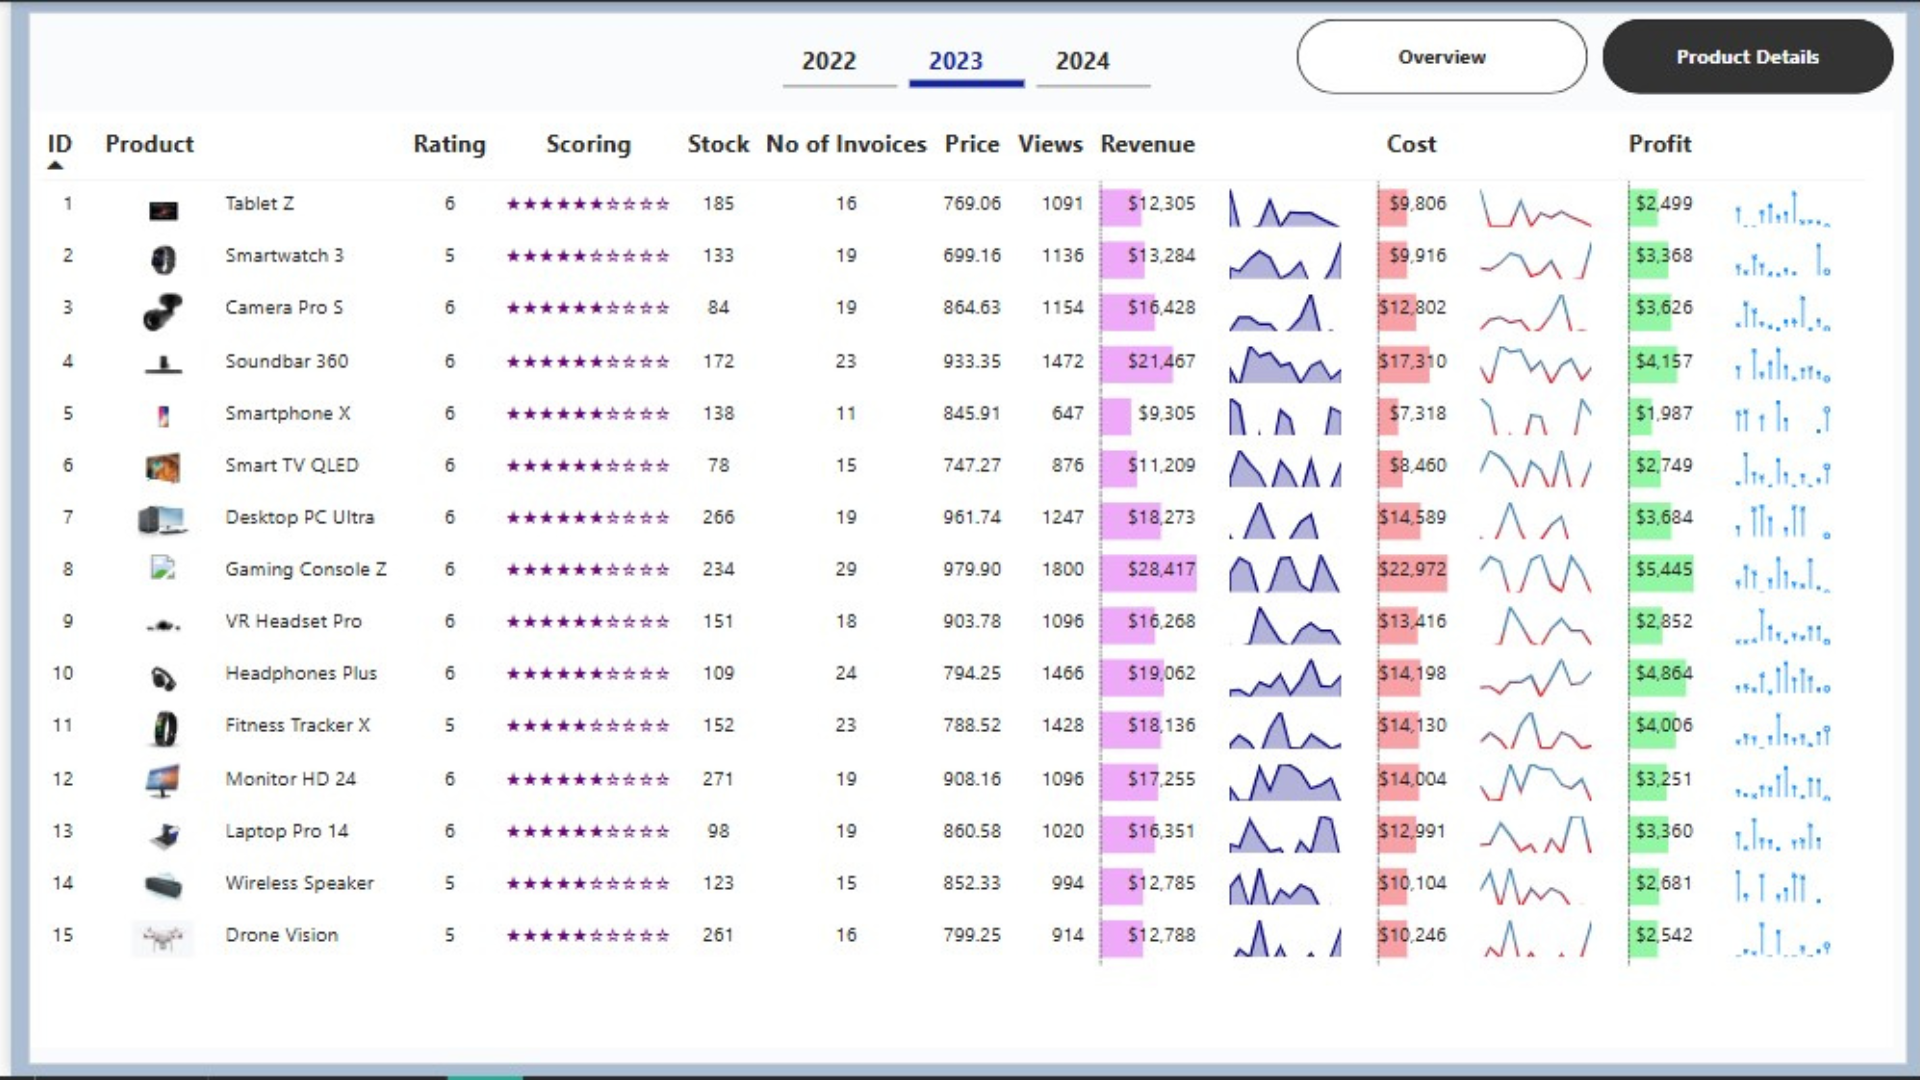

Layout of this report page (visuals, bound fields, positions):
{"tool":"powerbi","page":{"name":"Product Details","canvas":[1280,720],"ordinal":1},"visuals":[{"type":"tableEx","fields":{"Values":["dimProduct.Product ID","dimProduct.Img","dimProduct.Product","All Measure.Avg Rating","All Measure.Scoring","dimProduct.Stock Quantity","All Measure.No of Invoices","Avg(factSalesData.Sales Amount (USD))","All Measure.Views","All Measure.Revenue","All Measure.Revenue Sparkline","All Measure.Cost"]},"box":[13,73.7,1249.2,627.5],"z":0},{"type":"advancedSlicerVisual","fields":{"Values":["CalendarTable.Year"]},"box":[511.8,10.1,257.3,52],"z":1000},{"type":"pageNavigator","box":[861.7,11.6,400.5,50.6],"z":2000}]}

Visuals, with their boxes in screenshot pixels (x1, y1, x2, y2), scaled from the page's 1280x720 canvas onto the 1920x1080 screenshot:
tableEx - dimProduct.Product ID x dimProduct.Img: (20, 111, 1893, 1052)
advancedSlicerVisual - CalendarTable.Year: (768, 15, 1154, 93)
pageNavigator: (1293, 17, 1893, 93)
